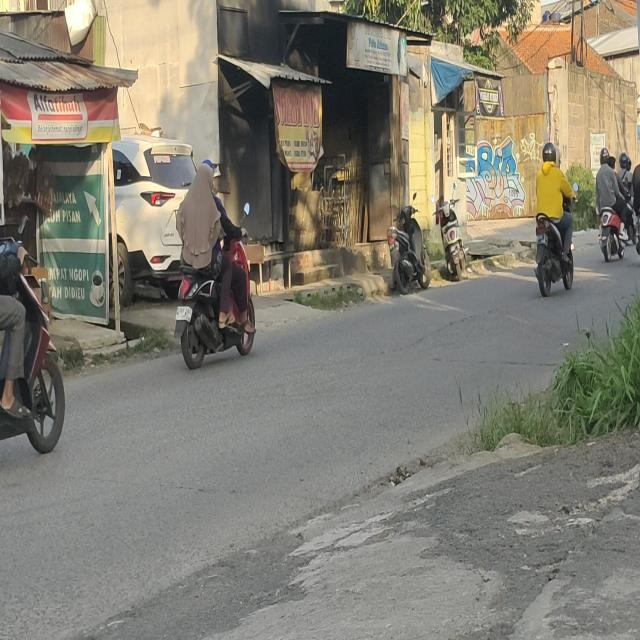helmet: (542, 144, 556, 166), (599, 149, 609, 167), (619, 152, 628, 169), (556, 148, 561, 170), (628, 158, 631, 170)
no-helmet: (197, 163, 214, 194), (203, 159, 217, 176), (610, 157, 616, 171)
